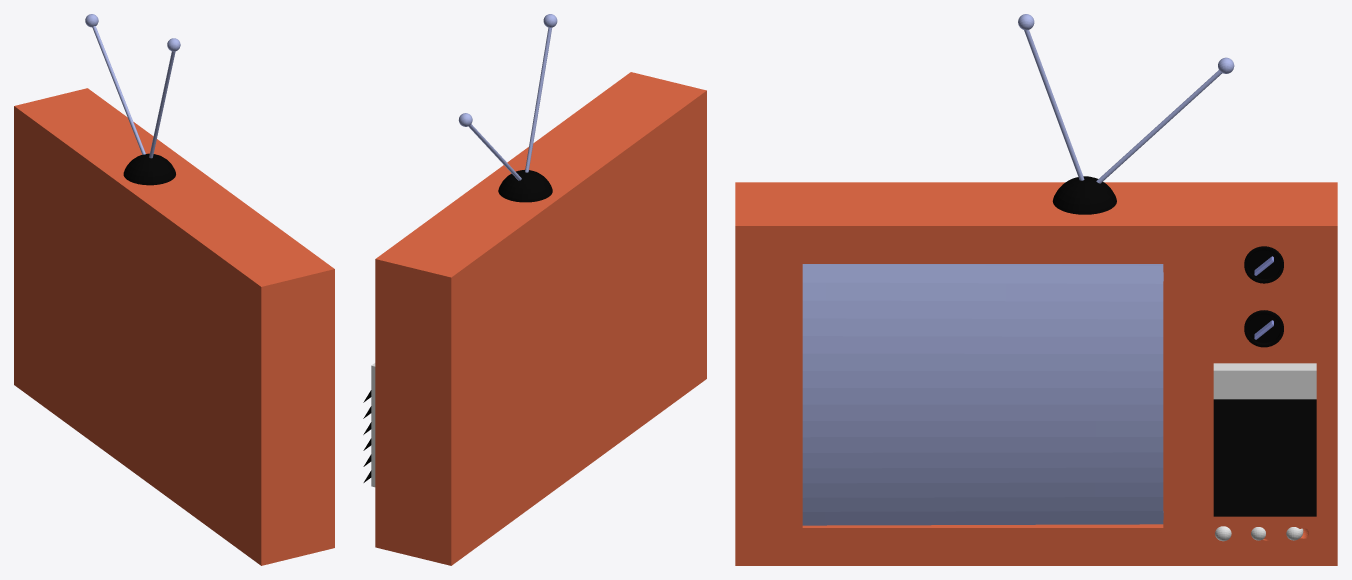
3 views of the same model, side by side, from view 1: azimuth 30°, elevation 25°; view 2: azimuth 150°, elevation 25°; view 3: azimuth 270°, elevation 25° (orthographic). The views are drawn at different scales.
Parts seen in each view (by area): view 1: Cube, Sphere.003, Cylinder, Cylinder.001; view 2: Cube, Sphere.003, Cylinder.001, Cube.001; view 3: Cube, TV Face, Black parts of window, Cube.001, Sphere.003, 2nd button, 1st button, Cylinder.001, Cylinder.
Part boxes in pixels (x1,y1,x2,y2): Cube: (14,88,334,565); Sphere.003: (123,153,175,185); Cylinder: (92,26,145,154); Cylinder.001: (149,51,175,158); Cube: (375,72,706,565); Sphere.003: (498,170,552,202); Cylinder.001: (525,27,551,172); Cube.001: (371,363,375,487); Cube: (735,182,1337,565); TV Face: (802,264,1163,525); Black parts of window: (1213,399,1316,516); Cube.001: (1213,363,1316,399); Sphere.003: (1052,176,1116,214); 2nd button: (1244,310,1283,347); 1st button: (1244,246,1283,283); Cylinder.001: (1024,30,1084,180); Cylinder: (1096,70,1222,183).
Size of the model in its own units: 75.01 by 329 by 341.
